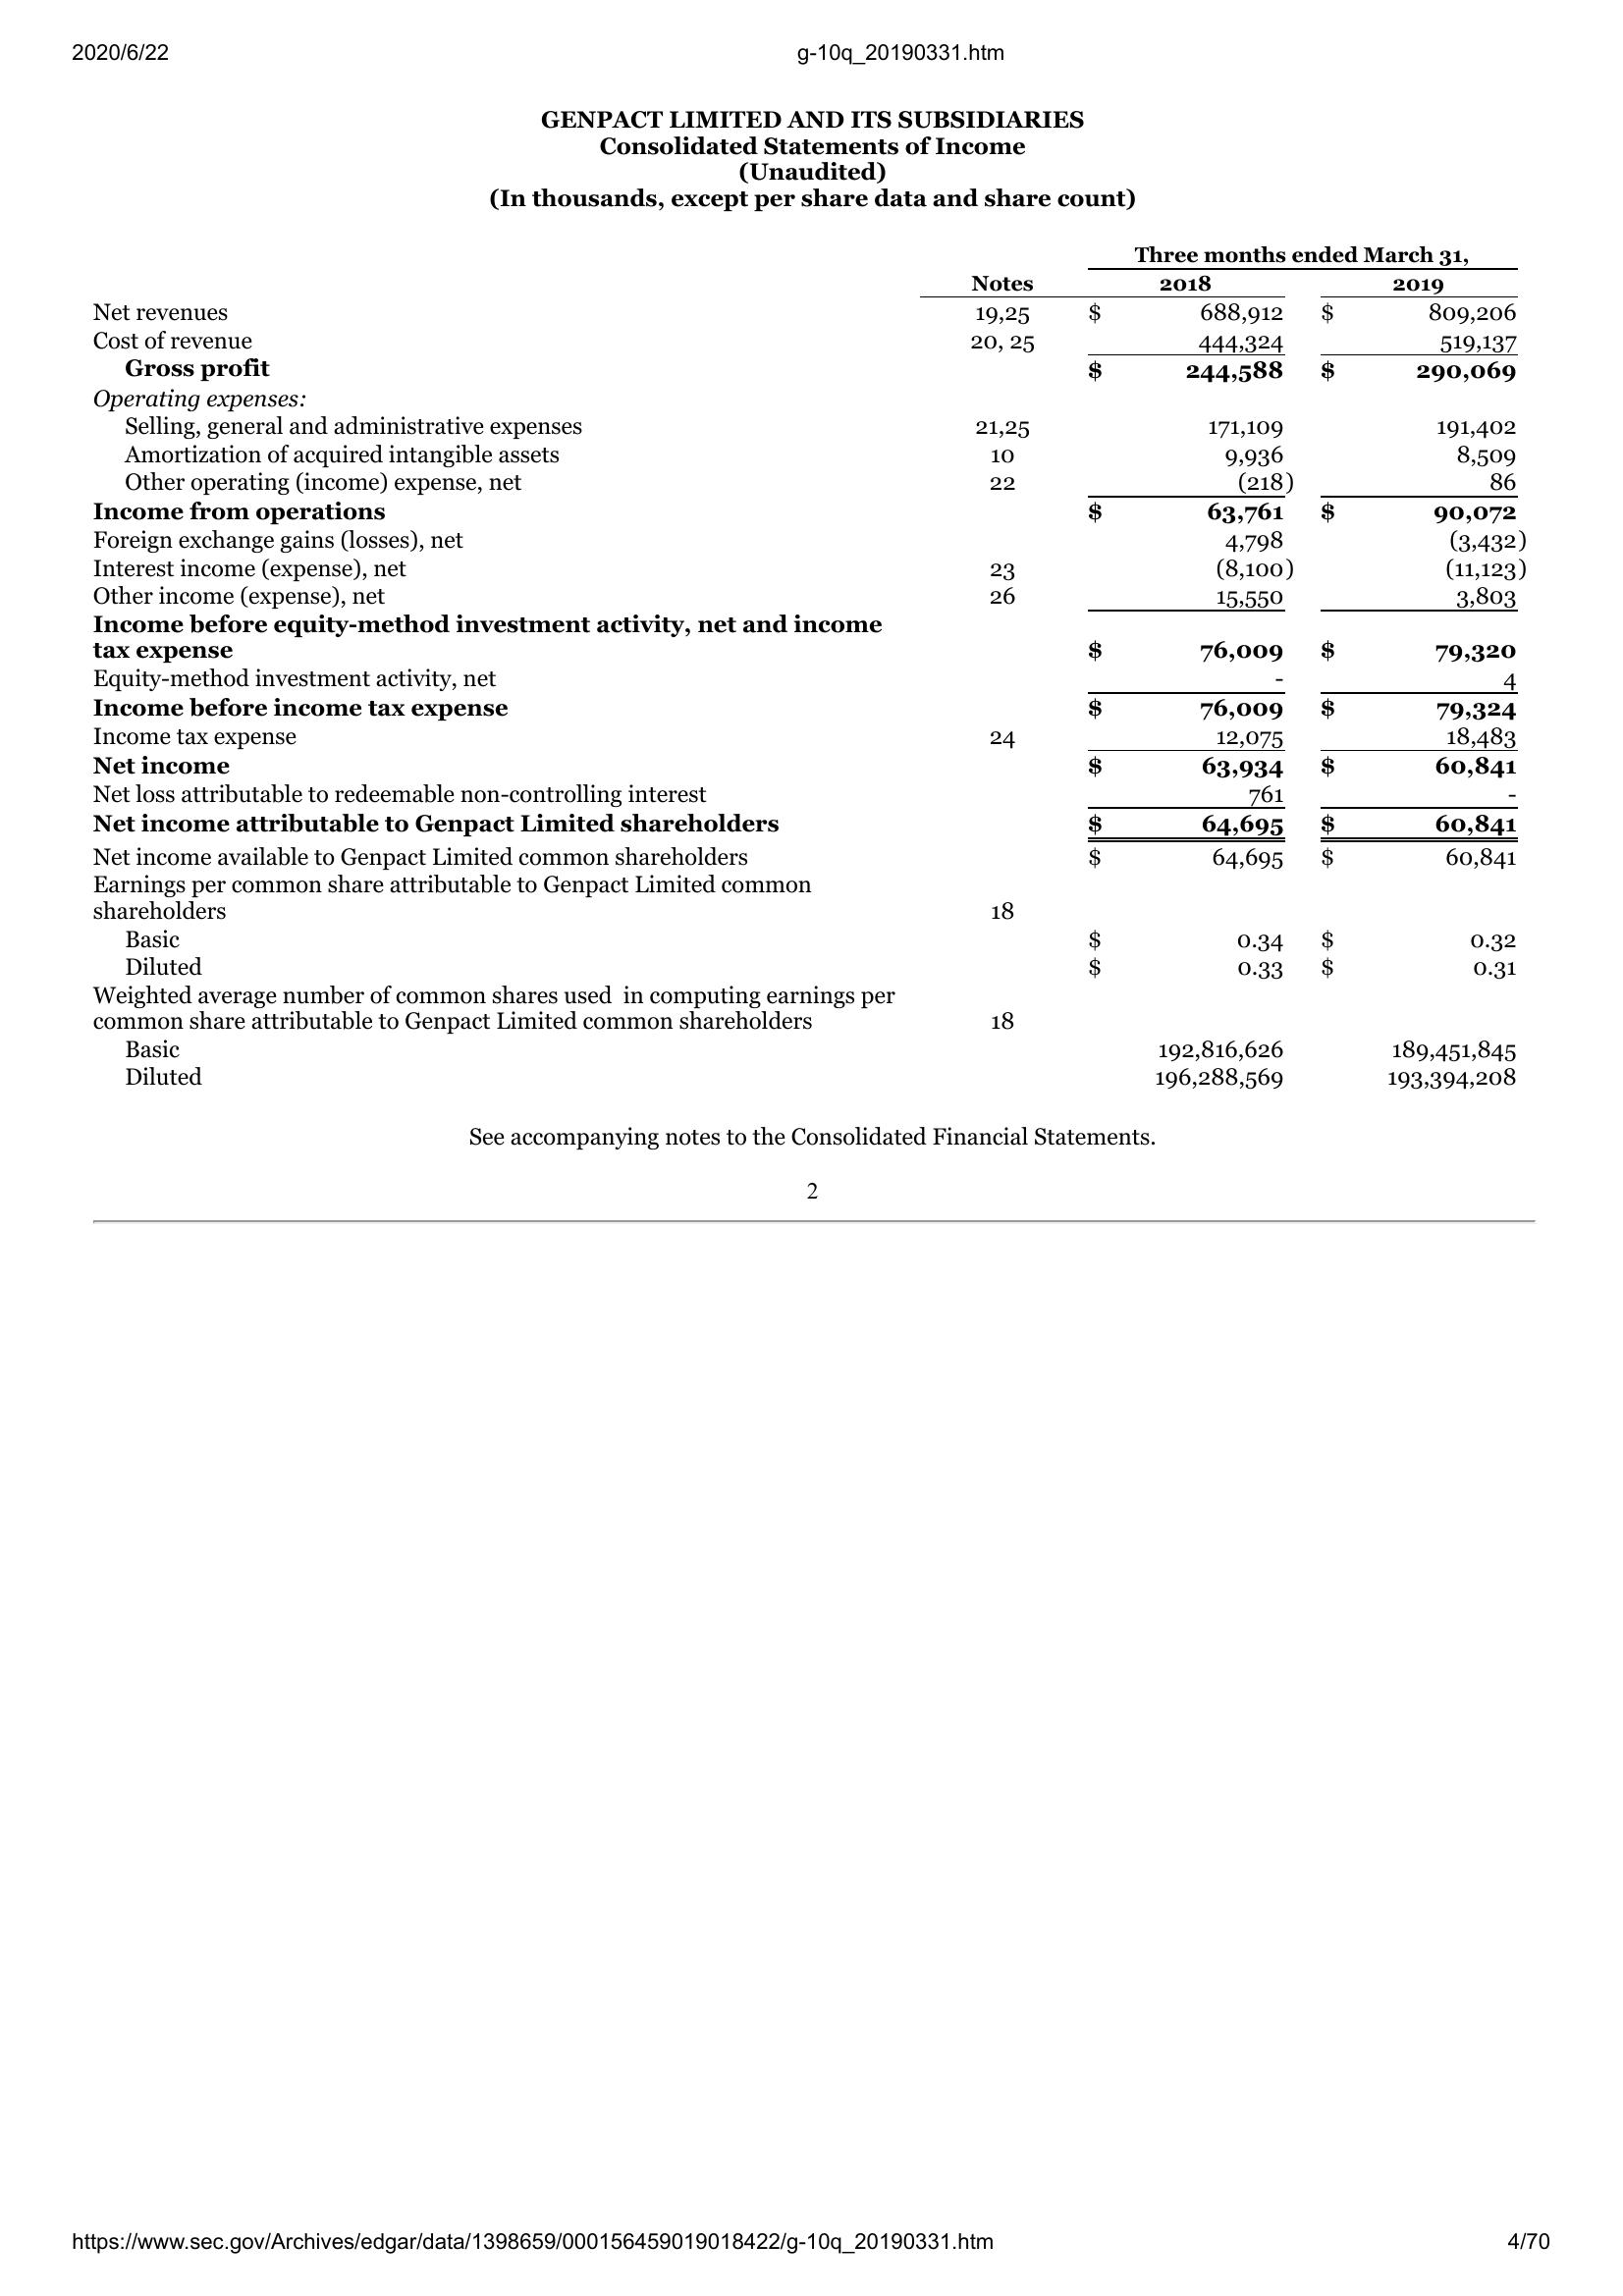table: (77, 237, 1533, 1097)
